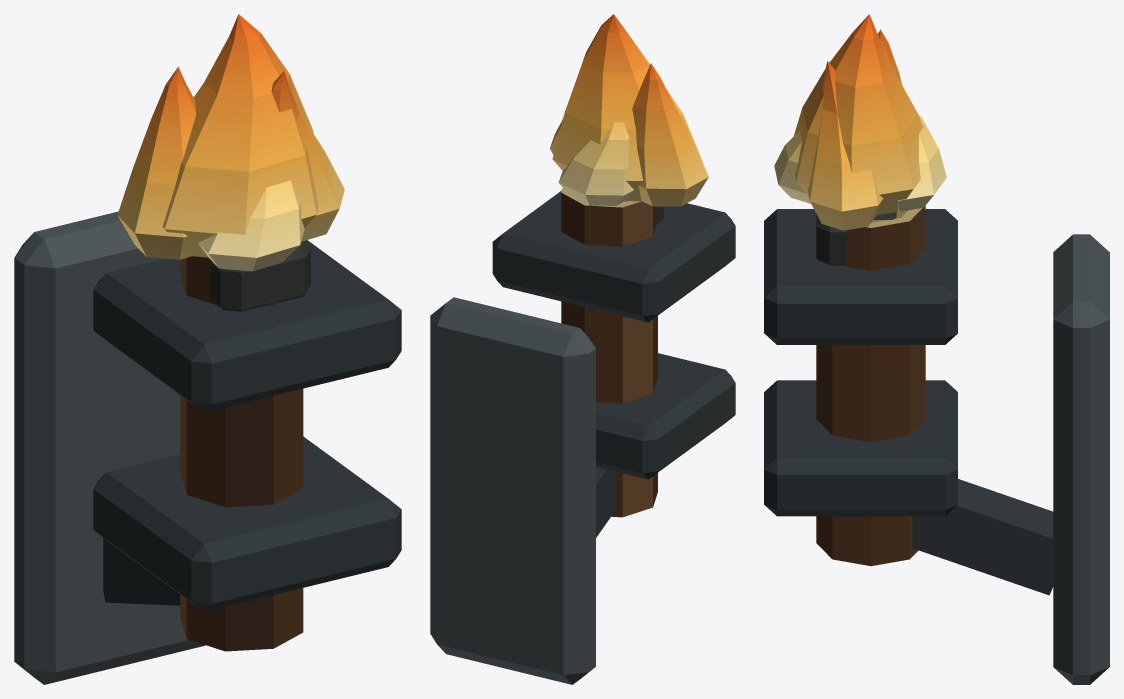
File: wall_torch.glb
3 views of the same model, side by side, from view 1: azimuth 30°, elevation 25°; view 2: azimuth 150°, elevation 25°; view 3: azimuth 270°, elevation 25° (orthographic). The views are drawn at different scales.
Visible parts, largest first — view 1: torch_body, torch_flame; view 2: torch_body, torch_flame; view 3: torch_body, torch_flame.
Boxes of the visible parts, box(x1,y1,x2,y2) form: torch_body: box(14, 211, 401, 684); torch_flame: box(117, 14, 344, 271); torch_body: box(430, 188, 735, 684); torch_flame: box(550, 14, 708, 206); torch_body: box(764, 206, 1109, 684); torch_flame: box(774, 14, 946, 230).
Bounding box in the file's own units: 0.4425 × 1.41 × 0.695.
